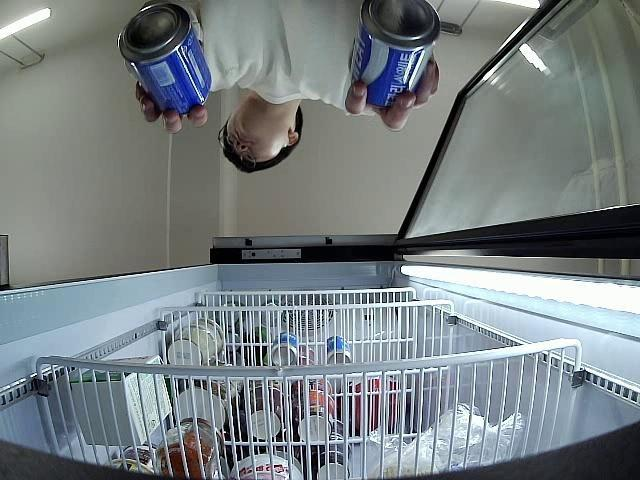13_pocariSweat: (118, 0, 211, 117), (350, 0, 440, 109)
